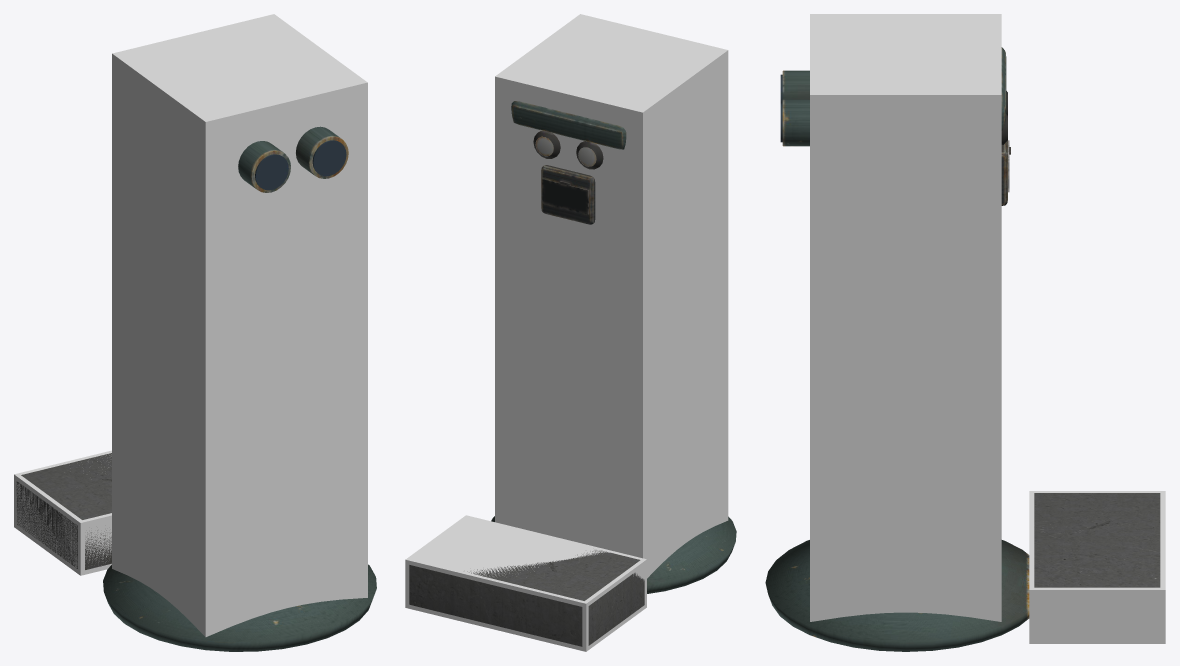
The model's file is p4_scope.glb.
The picture shows the model from 3 angles, left to right: view 1: azimuth 30°, elevation 25°; view 2: azimuth 150°, elevation 25°; view 3: azimuth 270°, elevation 25°; orthographic projection. The views are drawn at different scales.
Visible parts, largest first — view 1: p4_scope_COL, p4_scope_LOD0; view 2: p4_scope_COL, p4_scope_LOD0; view 3: p4_scope_COL, p4_scope_LOD0.
Part boxes in pixels (bbox=[...]): p4_scope_COL: bbox=[14, 14, 367, 637]; p4_scope_LOD0: bbox=[16, 126, 376, 651]; p4_scope_COL: bbox=[405, 14, 728, 651]; p4_scope_LOD0: bbox=[409, 101, 736, 646]; p4_scope_COL: bbox=[810, 14, 1165, 643]; p4_scope_LOD0: bbox=[765, 47, 1160, 651].
Size of what is drawn, in the model's own units: 0.66 by 1.4 by 0.94.
1 material, 1 textured.
